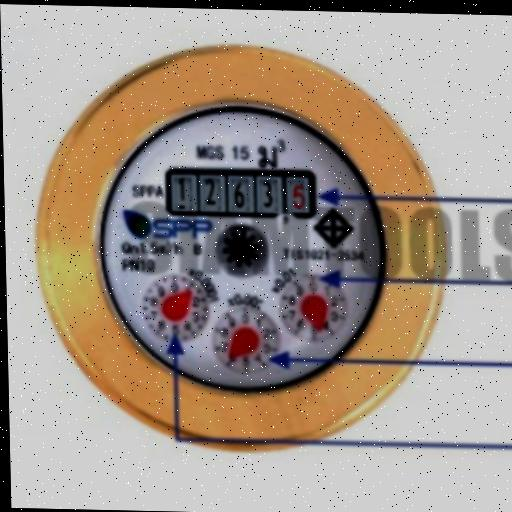1: (174, 179, 192, 211)
2: (203, 179, 219, 212)
3: (261, 181, 277, 213)
5: (291, 181, 307, 212)
6: (231, 179, 249, 211)
border_water_meter_number: (165, 167, 317, 219)
